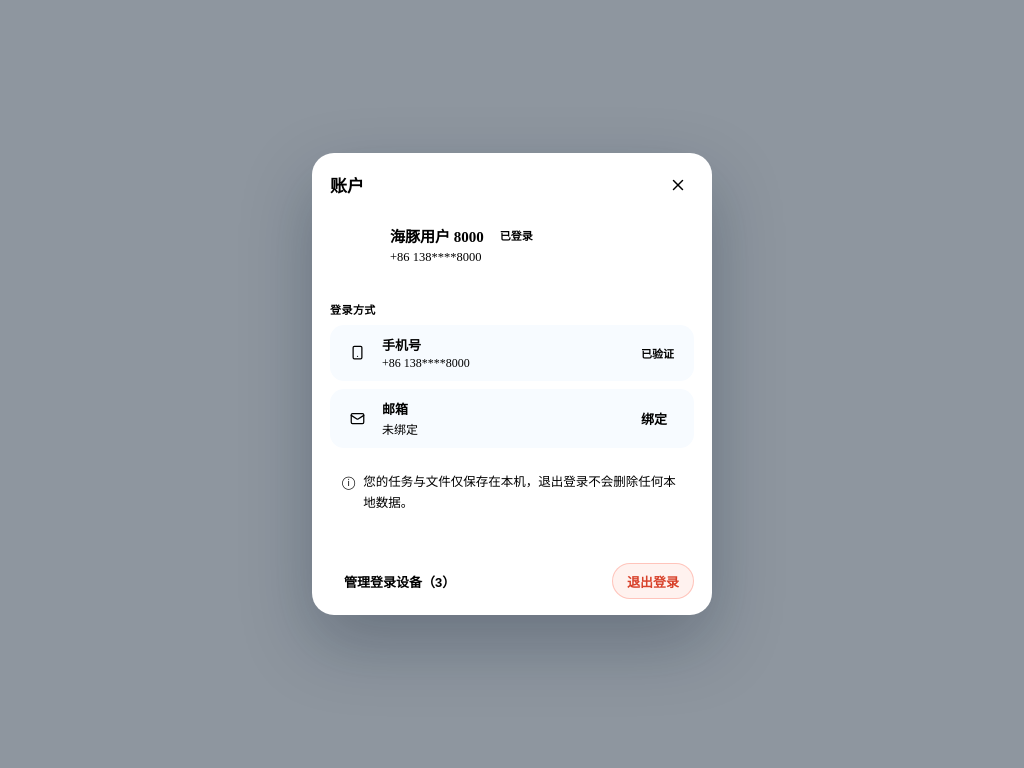
屏 C1 → C2：设备管理 › 进 C2 列出 3 台设备，本机行无移除按钮
Check: the text "已登录" is shown, box left=500, top=230, right=533, bottom=242
Click the button "管理登录设备（3）": (400, 581) left=330, top=563, right=469, bottom=599
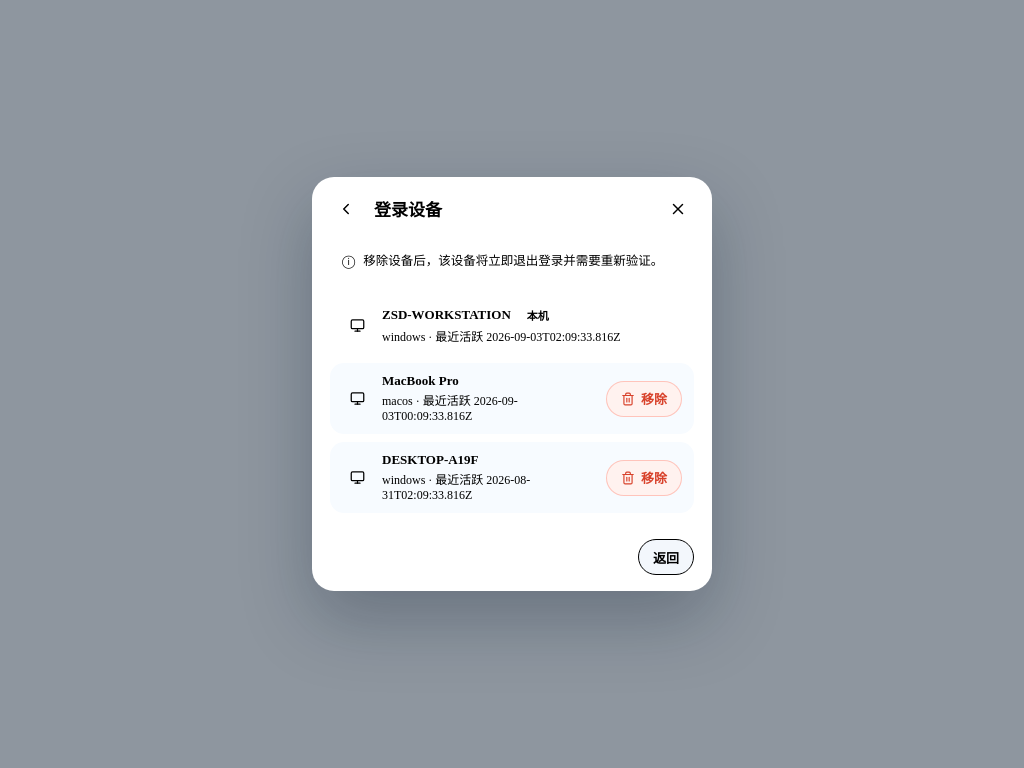
Check: the text "本机" is shown, box left=527, top=310, right=549, bottom=322
Check: the text "移除设备后，该设备将立即退出登录并需要重新验证。" is shown, box left=363, top=251, right=663, bottom=271
